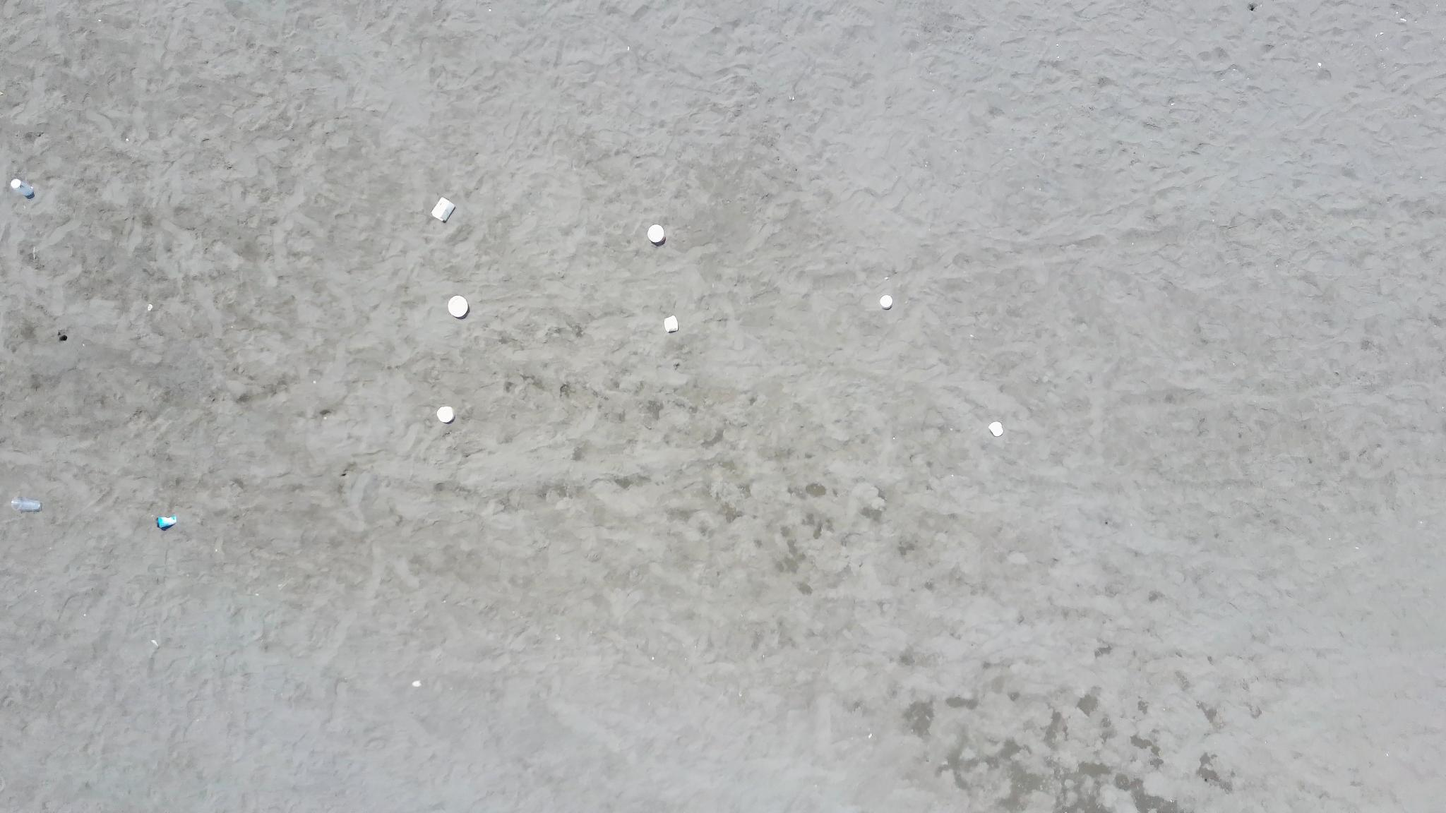Garbage: (431, 198, 454, 222), (11, 179, 34, 198), (447, 296, 467, 317), (11, 498, 40, 511), (647, 223, 664, 244), (155, 514, 177, 528), (436, 405, 453, 423), (988, 421, 1003, 437), (664, 315, 678, 332), (878, 294, 892, 309), (411, 680, 421, 687)
